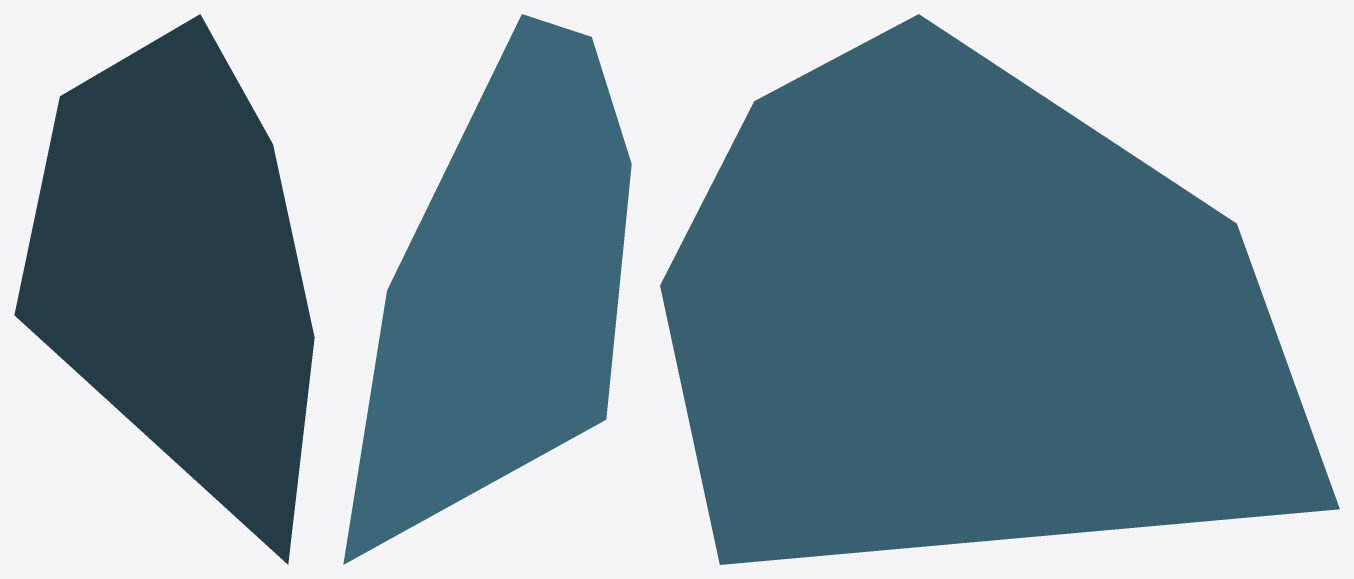
File: NexusC_Cloth_12.fbx
3 views of the same model, side by side, from view 1: azimuth 30°, elevation 25°; view 2: azimuth 150°, elevation 25°; view 3: azimuth 270°, elevation 25° (orthographic). The views are drawn at different scales.
Parts seen in each view (by area): view 1: polySurface51; view 2: polySurface51; view 3: polySurface51.
Boxes of the visible parts, left/top/right/bottom form: polySurface51: left=14, top=14, right=314, bottom=564; polySurface51: left=343, top=14, right=631, bottom=564; polySurface51: left=660, top=14, right=1339, bottom=564.
Size of the model in its own units: 0 by 42.56 by 47.6.
